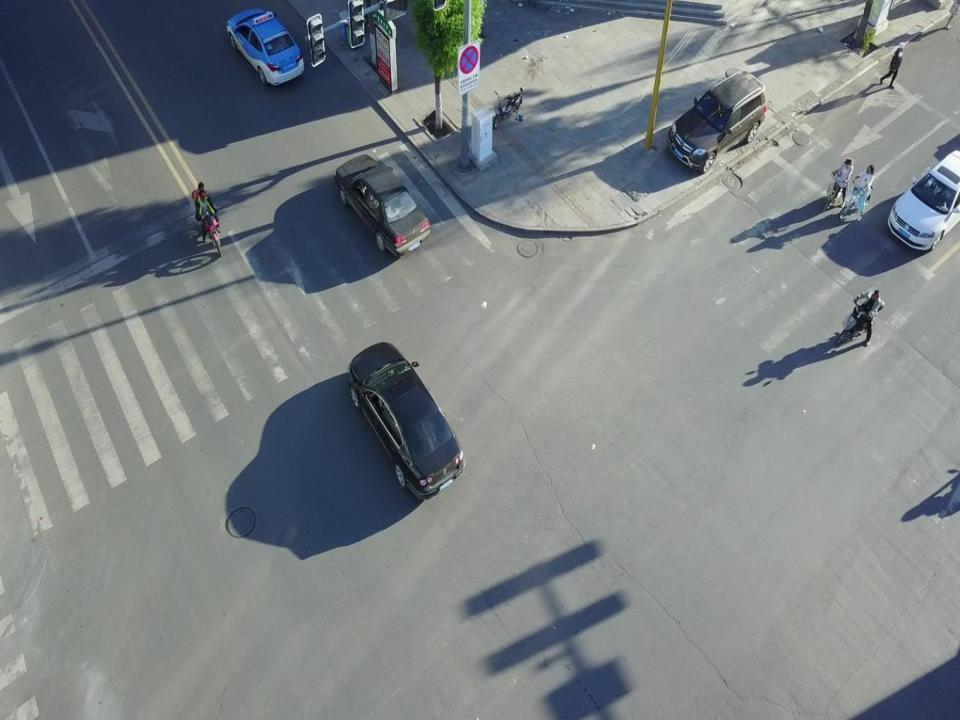car: (342, 339, 471, 516), (330, 148, 438, 278), (661, 61, 773, 174), (884, 143, 960, 251), (222, 5, 310, 89)
